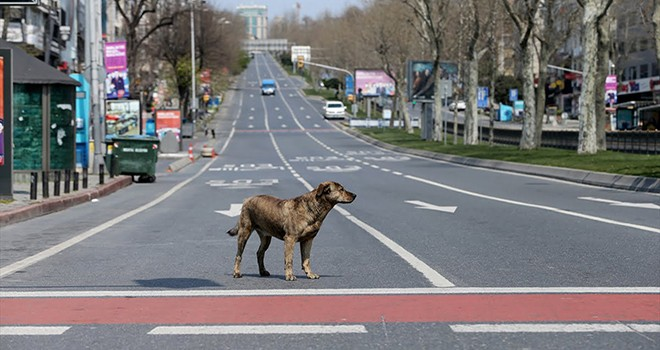kopek: (221, 178, 363, 285)
